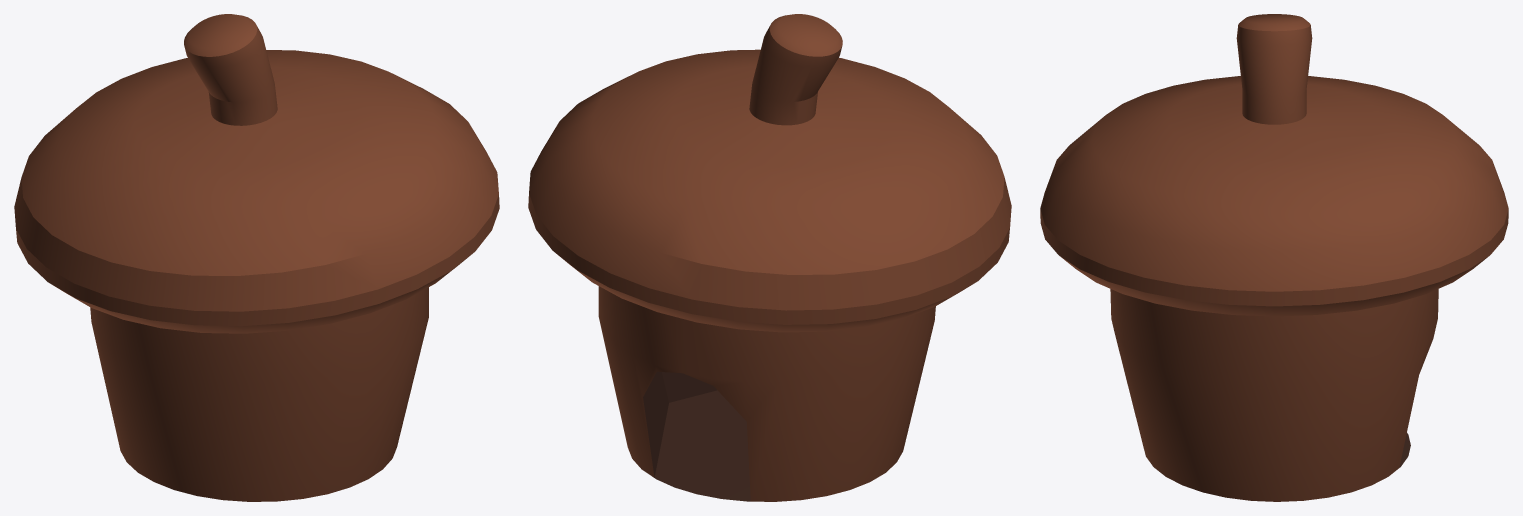
File: TocaPrimavera.fbx
3 views of the same model, side by side, from view 1: azimuth 30°, elevation 25°; view 2: azimuth 150°, elevation 25°; view 3: azimuth 270°, elevation 25° (orthographic). The views are drawn at different scales.
Visible parts, largest first — view 1: ArvoreBuraco.001; view 2: ArvoreBuraco.001; view 3: ArvoreBuraco.001.
Part boxes in pixels (x1,y1,x2,y2): ArvoreBuraco.001: (14, 14, 499, 501); ArvoreBuraco.001: (528, 14, 1011, 501); ArvoreBuraco.001: (1040, 14, 1508, 501).
Size of the model in its own units: 1601 by 1562 by 1602.
